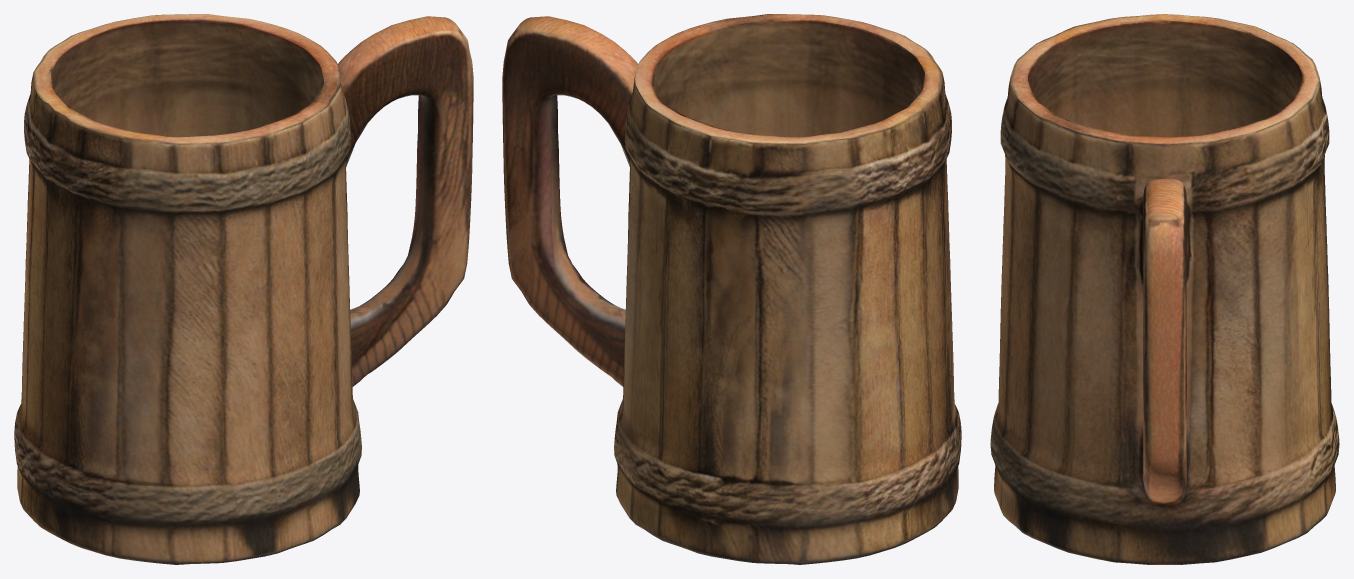
The model's file is mug2.glb.
3 views of the same model, side by side, from view 1: azimuth 30°, elevation 25°; view 2: azimuth 150°, elevation 25°; view 3: azimuth 270°, elevation 25° (orthographic).
Visible parts, largest first — view 1: Mesh0; view 2: Mesh0; view 3: Mesh0.
Boxes of the visible parts, left/top/right/bottom form: Mesh0: left=14, top=14, right=473, bottom=564; Mesh0: left=502, top=14, right=961, bottom=564; Mesh0: left=990, top=14, right=1339, bottom=564.
Size of the model in its own units: 2 by 1.85 by 1.4.
Materials: 1 (1 with a texture image).
